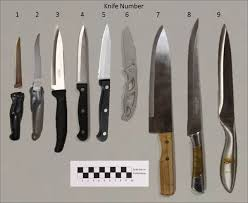knife: (12, 16, 240, 197)
